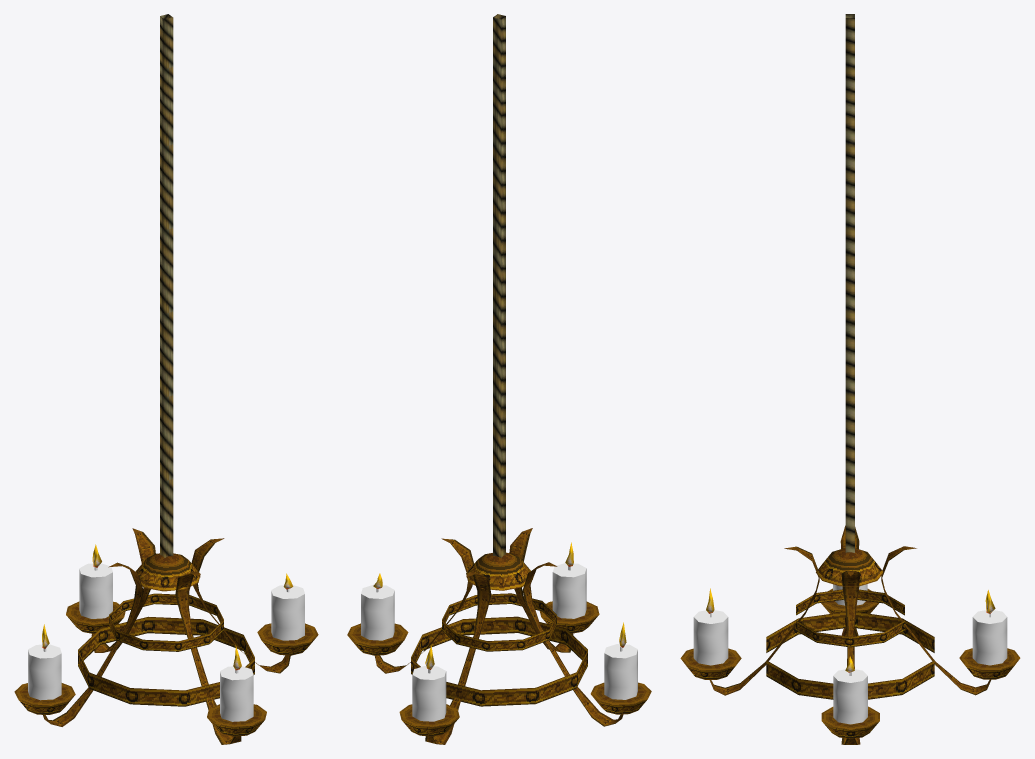
Rendered from INST_BE_LIGHTFIXTURE.fbx.
3 views of the same model, side by side, from view 1: azimuth 30°, elevation 25°; view 2: azimuth 150°, elevation 25°; view 3: azimuth 270°, elevation 25° (orthographic).
Visible parts, largest first — view 1: INST_BE_LIGHTFIXTURE; view 2: INST_BE_LIGHTFIXTURE; view 3: INST_BE_LIGHTFIXTURE.
Part boxes in pixels (x1=…): INST_BE_LIGHTFIXTURE: x1=14, y1=14, x2=318, y2=744; INST_BE_LIGHTFIXTURE: x1=347, y1=14, x2=651, y2=744; INST_BE_LIGHTFIXTURE: x1=680, y1=14, x2=1020, y2=744.
Size of the model in its own units: 6385 by 13994 by 6385.
Materials: 4 (4 with a texture image).
